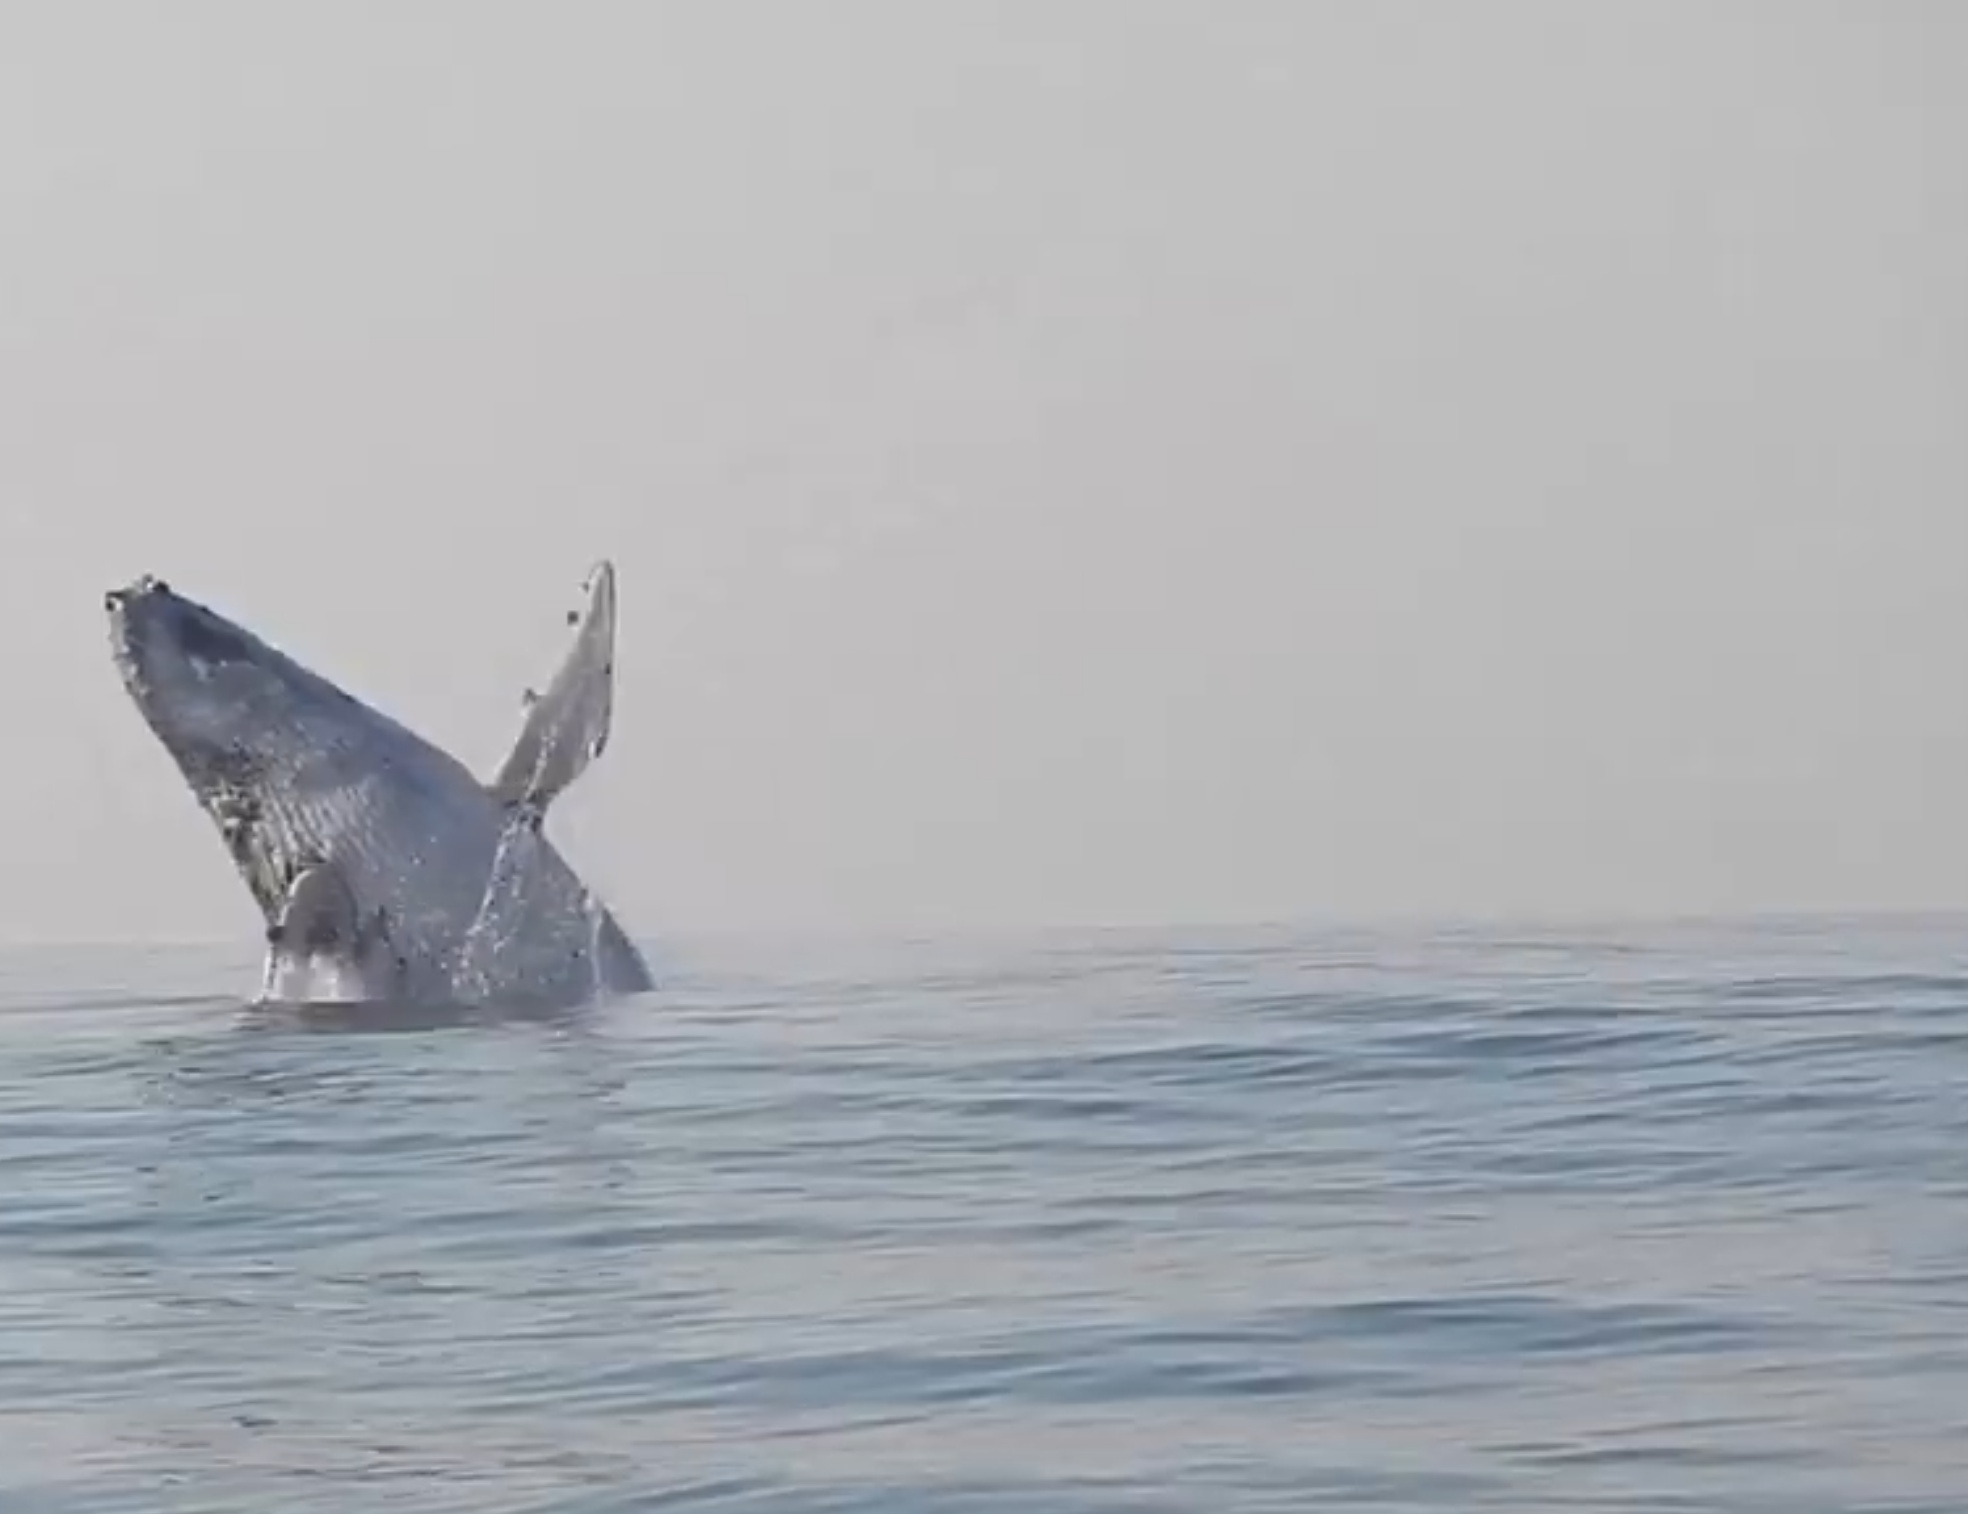humpback: (102, 569, 660, 999)
